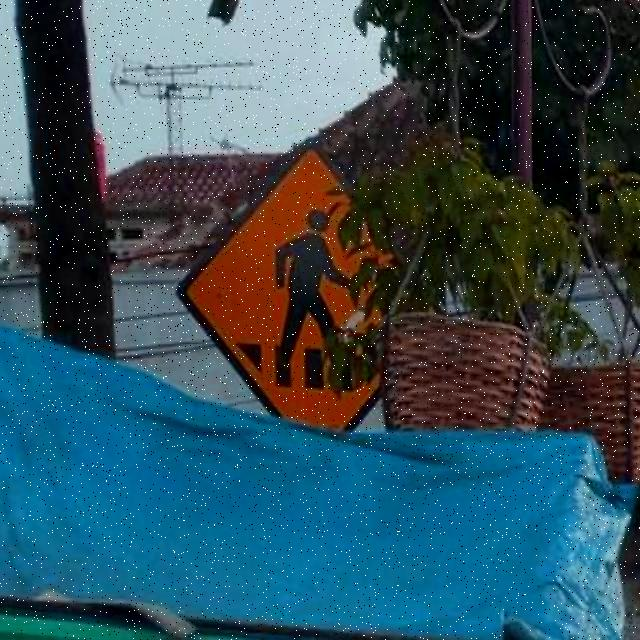Przejscie dla pieszych: (192, 145, 326, 417)
